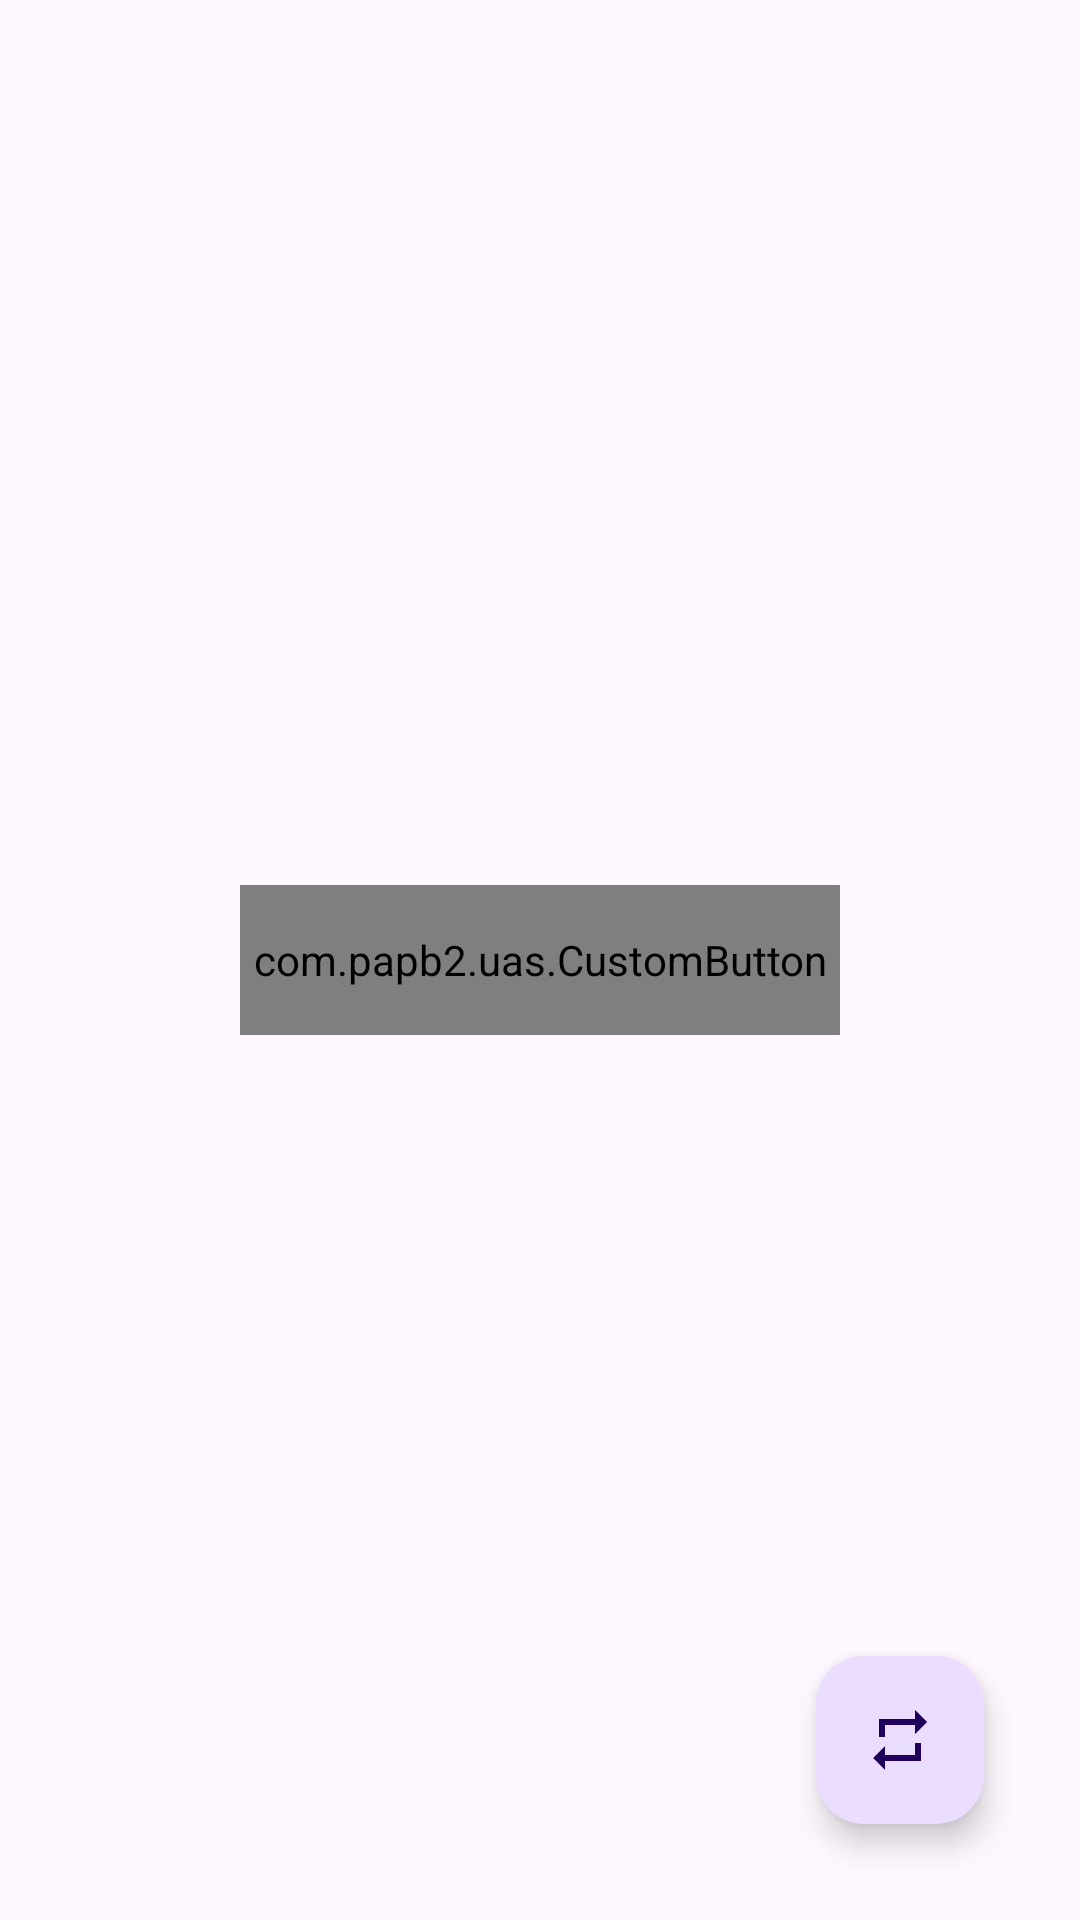

Named icons in this screenshot (1080×1920) and their bounding boxes, {"left": x1, "top": y1, "right": x2, "bottom": y2}:
repeat: {"left": 816, "top": 1656, "right": 984, "bottom": 1824}
